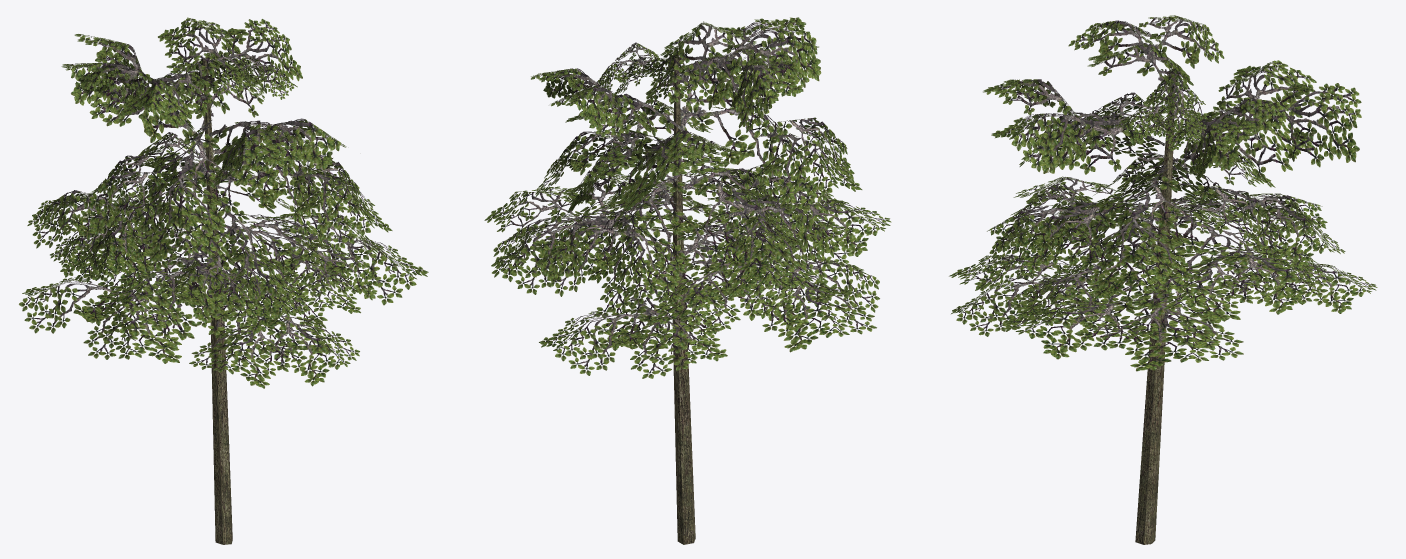
Rendered from flora_tree_tropic_rainforest_v3.glb.
The picture shows the model from 3 angles, left to right: view 1: azimuth 30°, elevation 25°; view 2: azimuth 150°, elevation 25°; view 3: azimuth 270°, elevation 25°; orthographic projection. The views are drawn at different scales.
Visible parts, largest first — view 1: flora_tree_tropic_rainforest_v3_part0; view 2: flora_tree_tropic_rainforest_v3_part0; view 3: flora_tree_tropic_rainforest_v3_part0.
Boxes of the visible parts, bbox=[...] form: flora_tree_tropic_rainforest_v3_part0: bbox=[19, 17, 428, 544]; flora_tree_tropic_rainforest_v3_part0: bbox=[484, 17, 891, 544]; flora_tree_tropic_rainforest_v3_part0: bbox=[949, 15, 1377, 544].
Size of the model in its own units: 10.56 by 13.4 by 11.48.
1 material, 1 textured.
